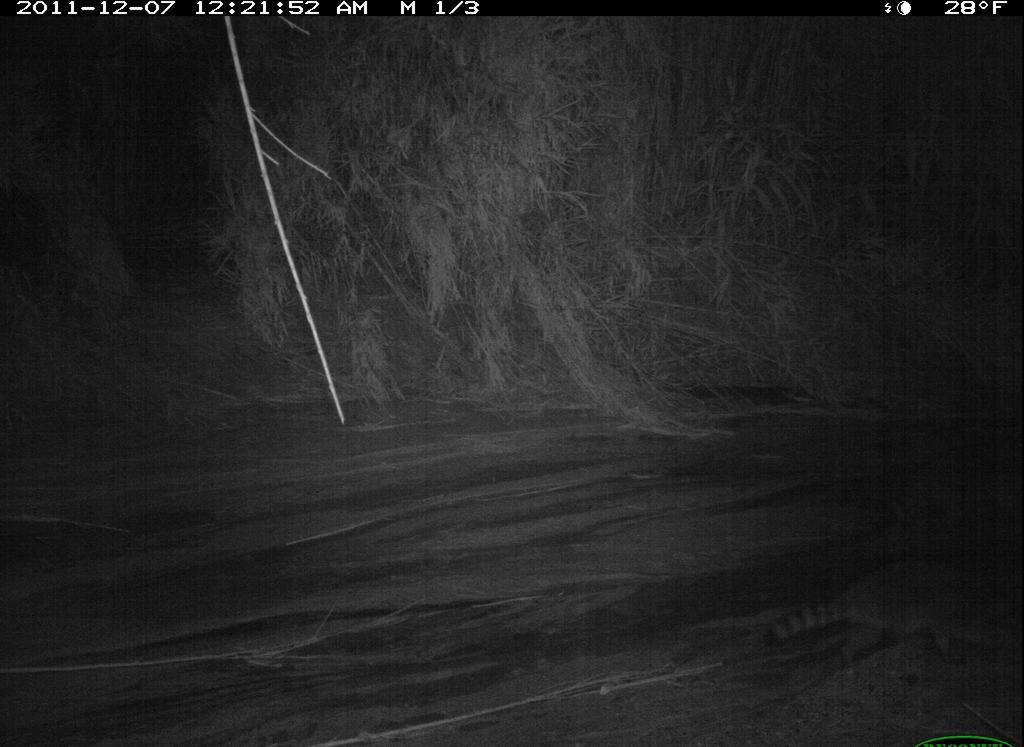raccoon: (763, 543, 1014, 673)
